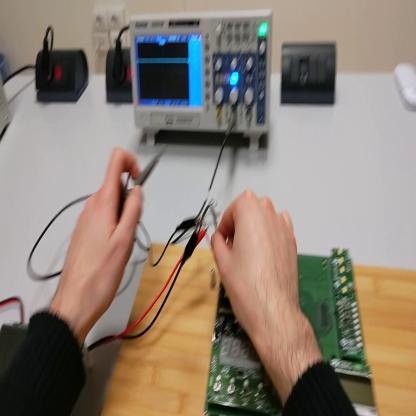hand: (210, 189, 306, 350), (62, 149, 145, 327)
low voltage board: (207, 203, 384, 416)
oscilloscope: (128, 9, 276, 148)
oscilloscope probe tip: (121, 144, 168, 214)
power supply: (2, 67, 12, 144)
socket: (35, 49, 90, 108), (104, 49, 133, 106)
working area: (101, 241, 415, 415)
